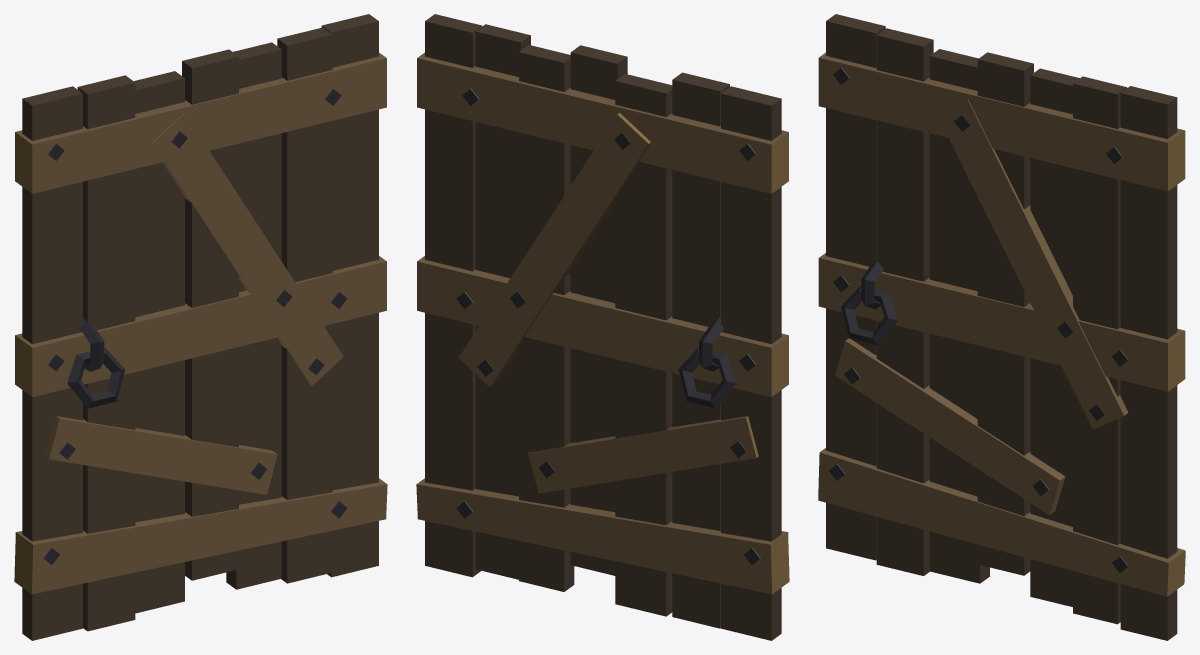
File: Door.fbx
3 views of the same model, side by side, from view 1: azimuth 30°, elevation 25°; view 2: azimuth 150°, elevation 25°; view 3: azimuth 330°, elevation 25° (orthographic).
Visible parts, largest first — view 1: pCube2102; view 2: pCube2102; view 3: pCube2102.
Boxes of the visible parts, x1,y1,x2,y2 form: pCube2102: (14,14,387,640); pCube2102: (416,14,789,640); pCube2102: (818,14,1185,640).
Bounding box in the file's own units: 162 × 237 × 36.08.
